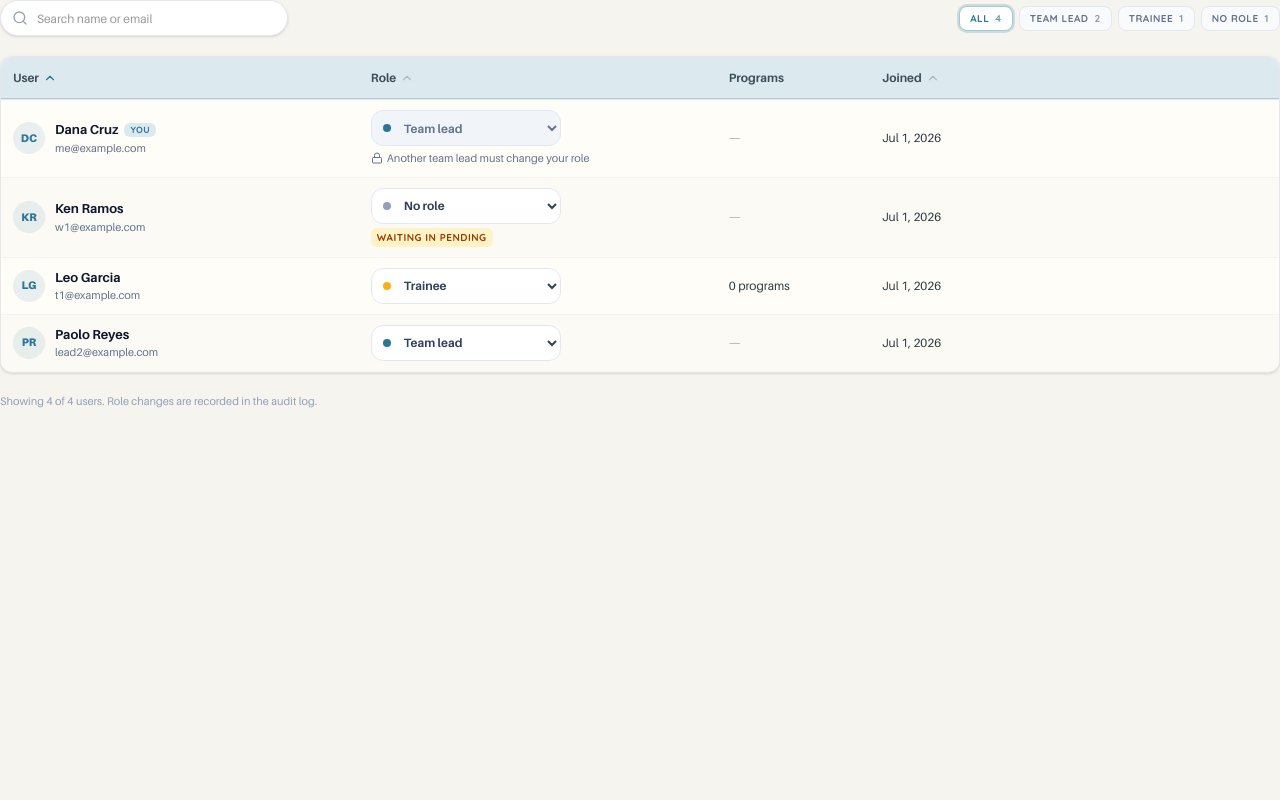
UserRolesTable › confirms a change, saves it, and enrolls the new intern
Select "Intern" in the dropdown named "Role for Leo Garcia". click: x=466, y=286
box: [371, 268, 561, 304]
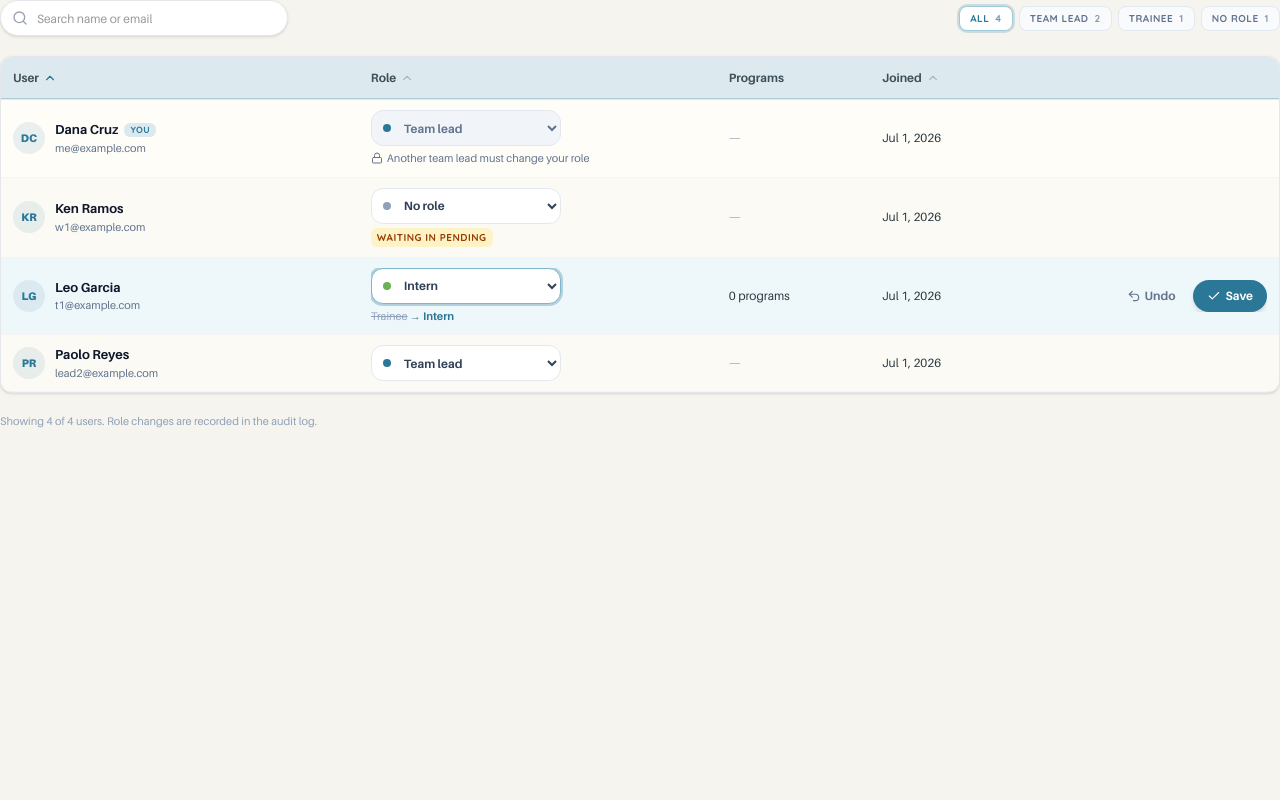
Result: the text "→ Intern" is shown at [371, 308, 454, 322]
Click the button with aria-label "Save role for Leo Garcia". click: x=1230, y=296
box: [1193, 280, 1267, 312]
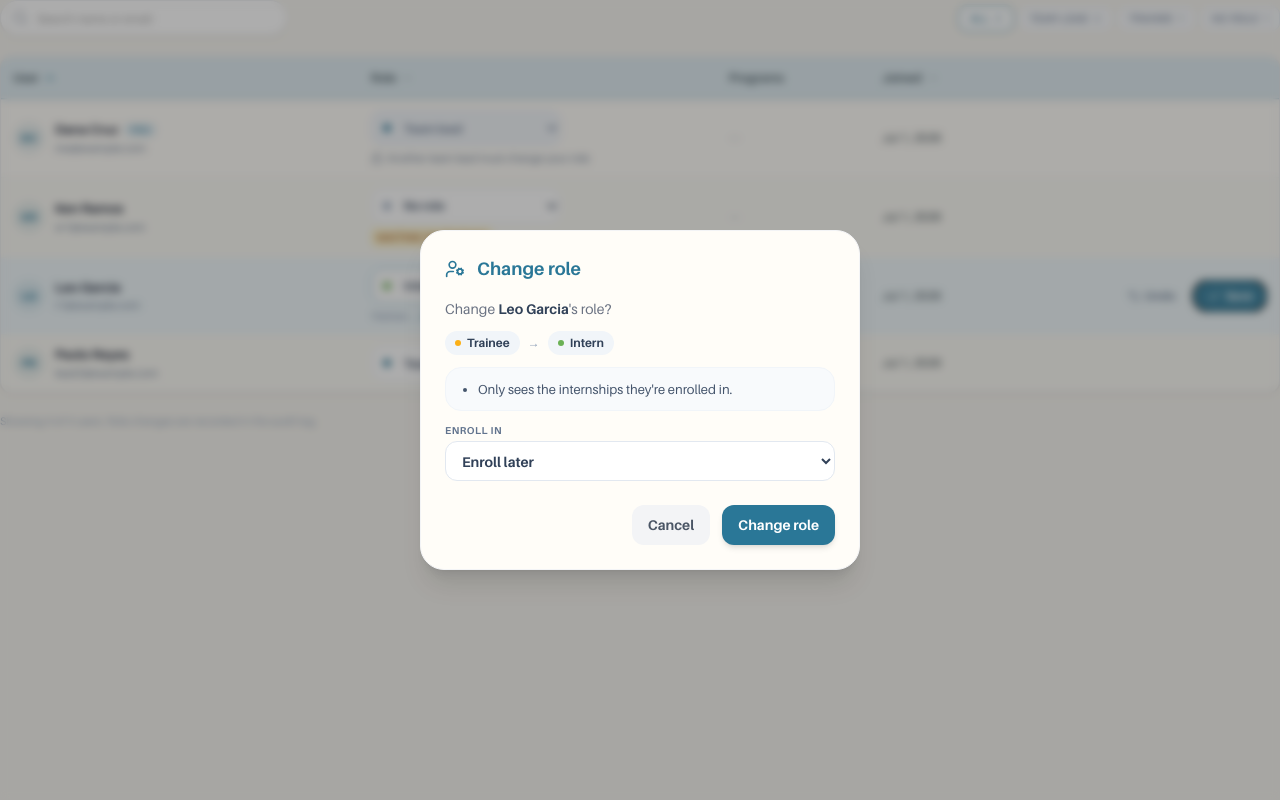
Result: the heading "Change role" is shown at [477, 255, 581, 283]
Result: the list item "Only sees the internships they're enrolled in." is shown at [478, 381, 732, 397]
Select "Summer Internship" in the dropdown labelled "Enroll in". click: x=640, y=461
box: [445, 441, 835, 481]
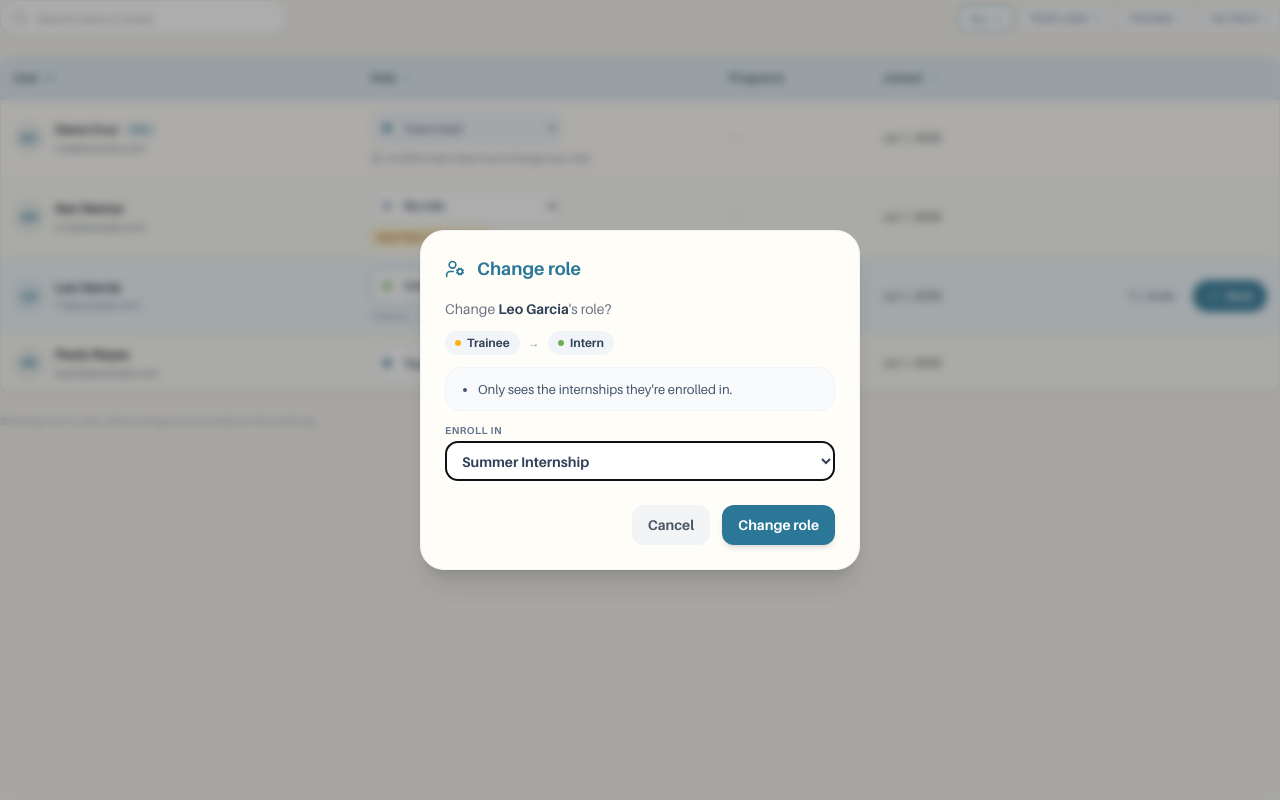
Click the button "Change role". click: x=779, y=525
box: [722, 505, 835, 545]
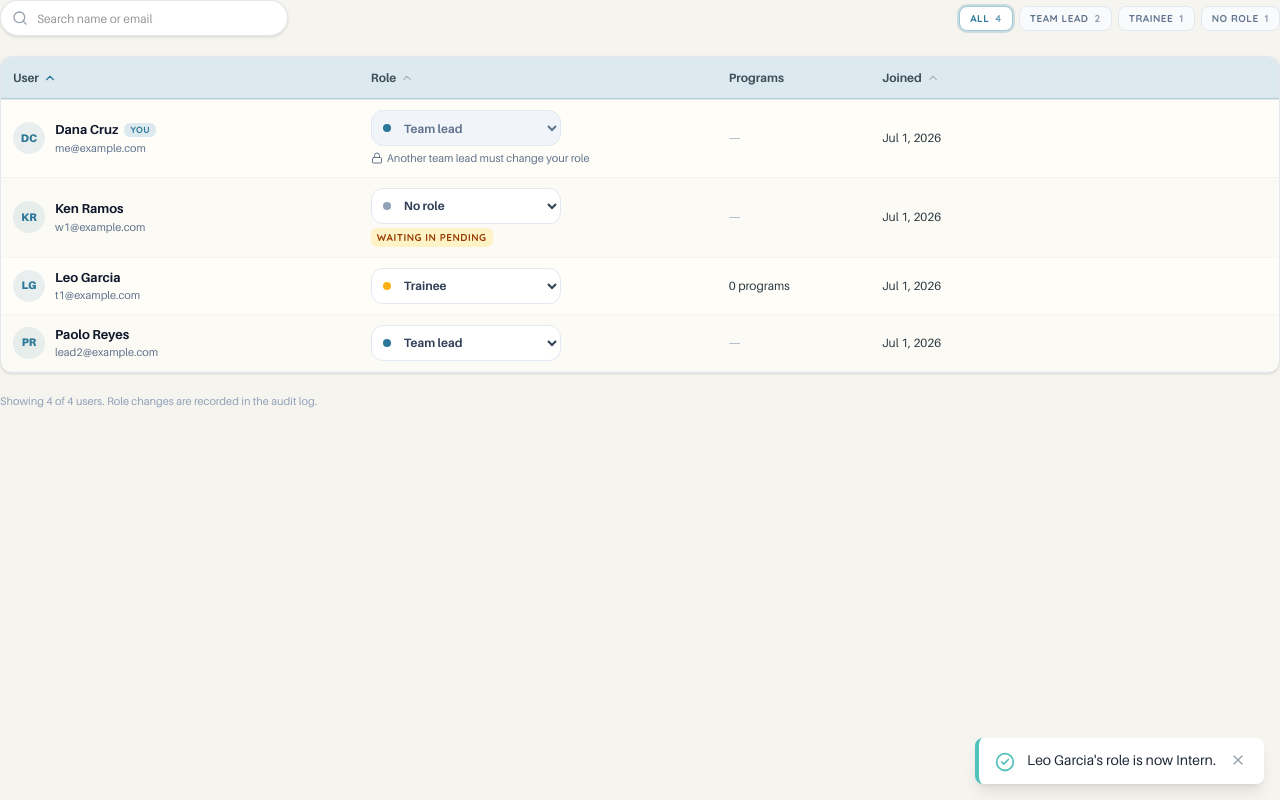
Result: the text "Leo Garcia's role is now Intern." is shown at [1027, 750, 1216, 769]
